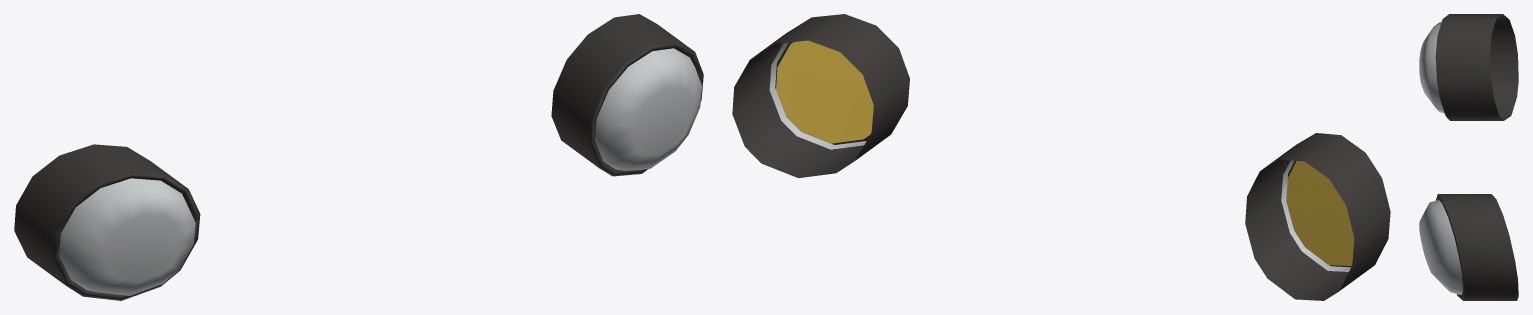
The model's file is Car_01_Headlight_Simple.fbx.
The picture shows the model from 3 angles, left to right: view 1: azimuth 30°, elevation 25°; view 2: azimuth 150°, elevation 25°; view 3: azimuth 270°, elevation 25°; orthographic projection. The views are drawn at different scales.
Parts seen in each view (by area): view 1: Car_01_Headlight_Simple; view 2: Car_01_Headlight_Simple; view 3: Car_01_Headlight_Simple.
Part boxes in pixels (box(x1,y1,x2,y2)): Car_01_Headlight_Simple: box(14, 14, 703, 300); Car_01_Headlight_Simple: box(732, 14, 1390, 300); Car_01_Headlight_Simple: box(1419, 14, 1518, 300).
Bounding box in the file's own units: 136 × 25.45 × 27.31.
